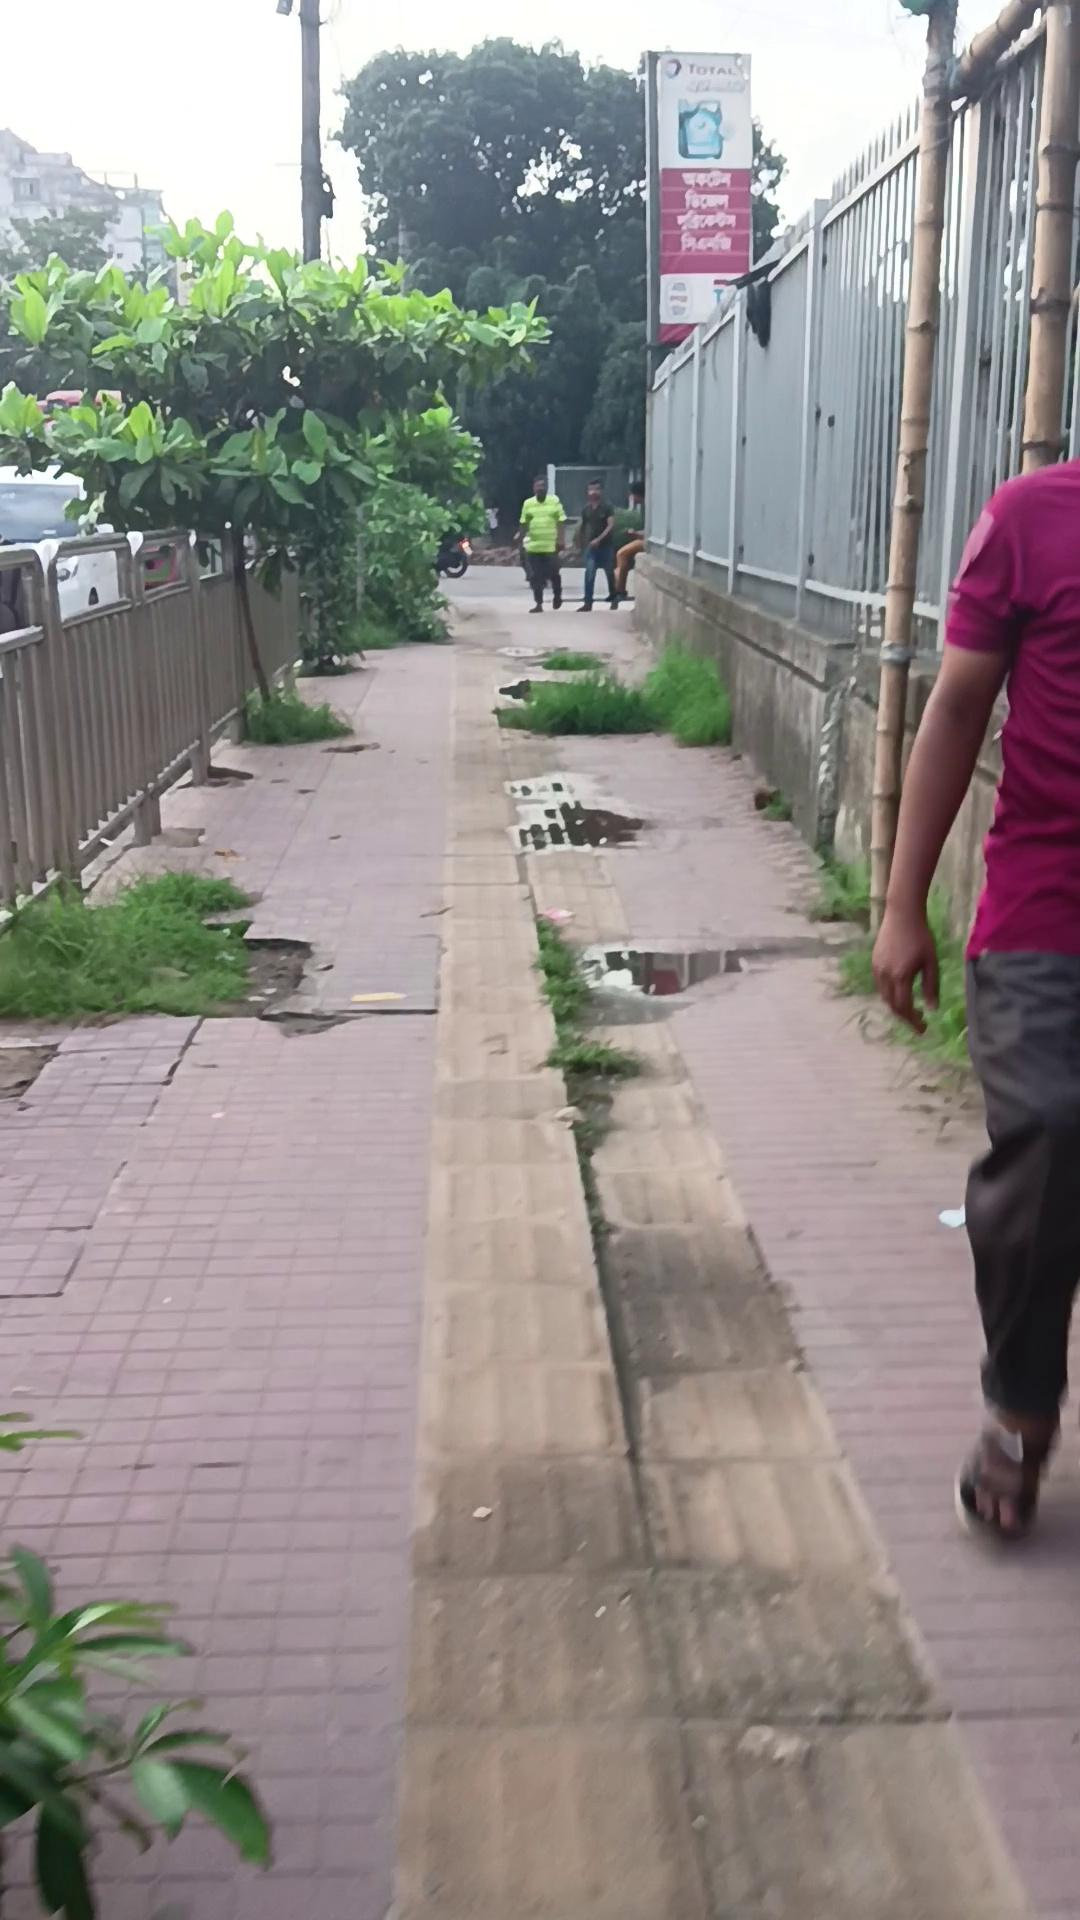Light-pole: (431, 527, 472, 578)
Muddy road: (868, 456, 1079, 1539), (515, 476, 567, 612), (570, 479, 618, 611), (610, 481, 645, 600)
Obstacle: (864, 1, 959, 936), (1016, 2, 1079, 475)
Potted-plant: (0, 583, 1029, 1915)
Railroad-crossing: (591, 921, 802, 1007), (511, 776, 666, 855)
